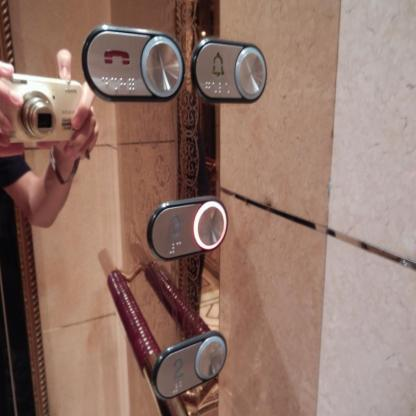2: (150, 330, 231, 402)
3: (143, 193, 230, 264)
alarm: (188, 30, 268, 104)
call: (79, 23, 185, 103)
